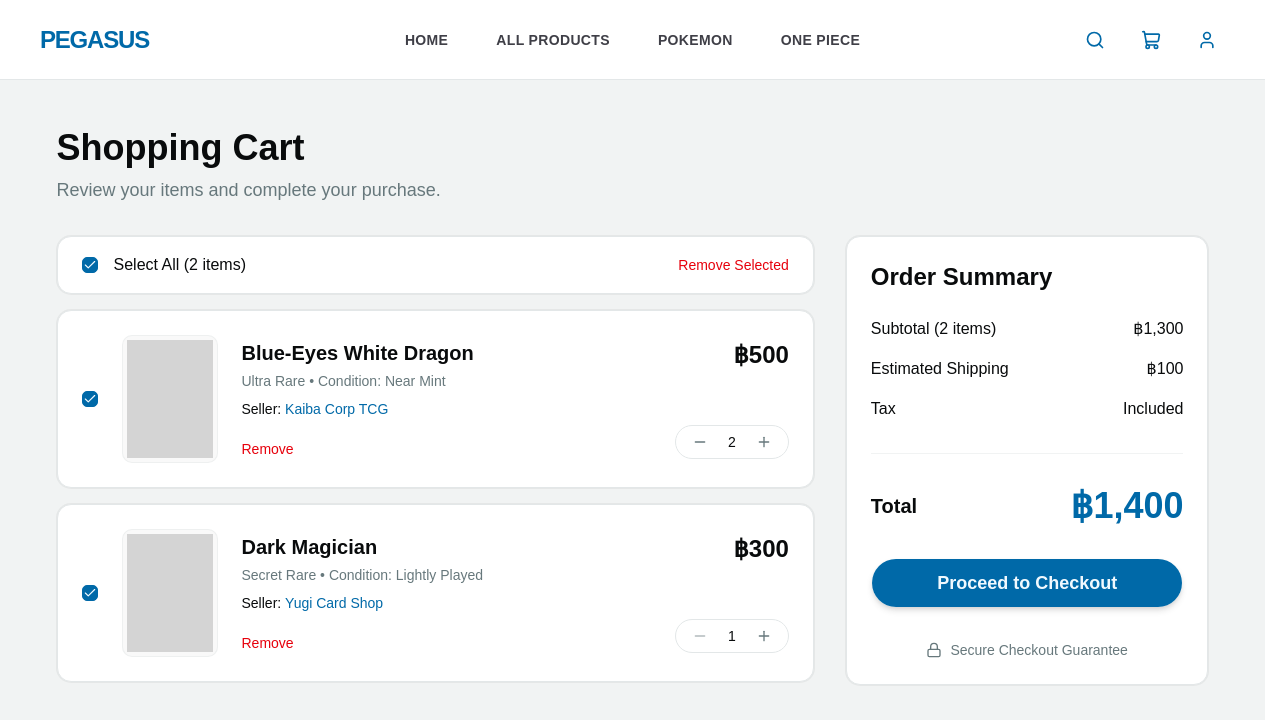
Test: Core Shopping Cart Flow › toggles item selection and updates order summary calculations
Click "Select All" to deselect all items
Step 1. Click the checkbox labelled "Select All (2 items)" → (181, 265), box 114,253 -> 247,277
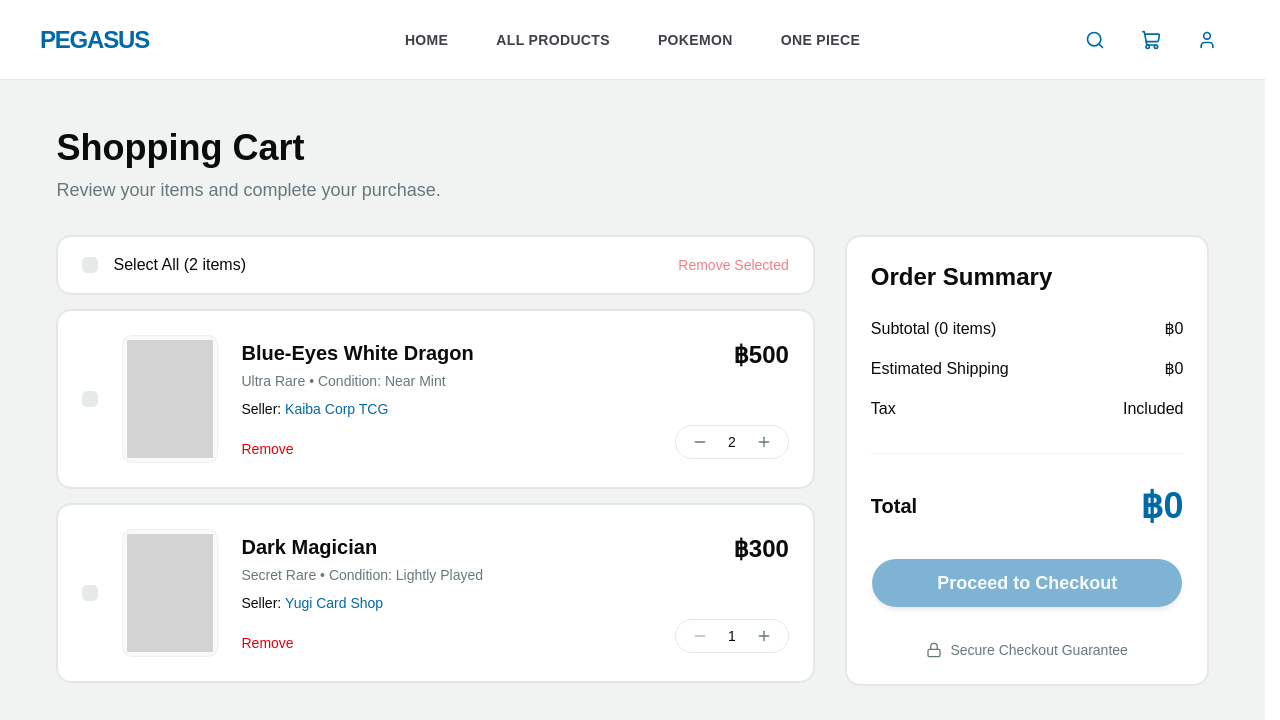
Result: the text "Subtotal (0 items)" is shown at 871,317 -> 996,341
Result: the button "Proceed to Checkout" is disabled at 871,558 -> 1184,608
Click "Select All" again to re-select all items
Step 2. Click the checkbox labelled "Select All (2 items)" → (181, 265), box 114,253 -> 247,277
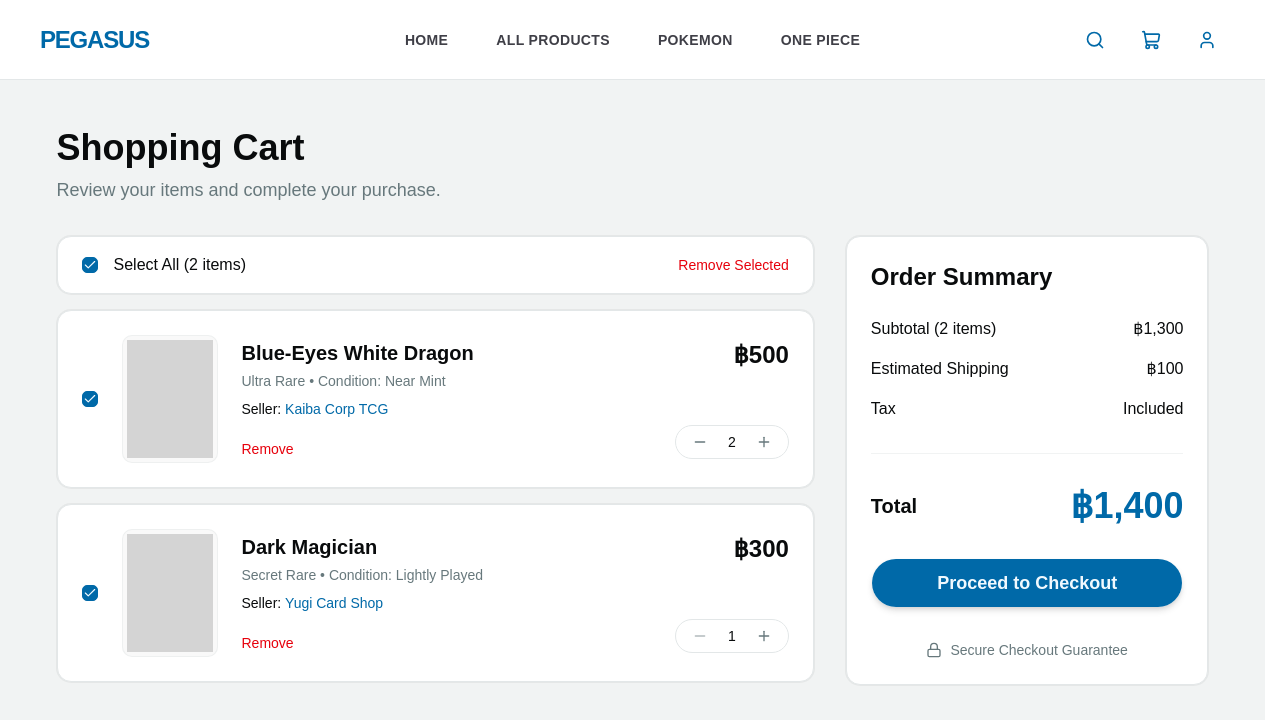
Expected: the text "Proceed to Checkout" is enabled
Result: the text "Subtotal (2 items)" is shown at 871,317 -> 996,341
